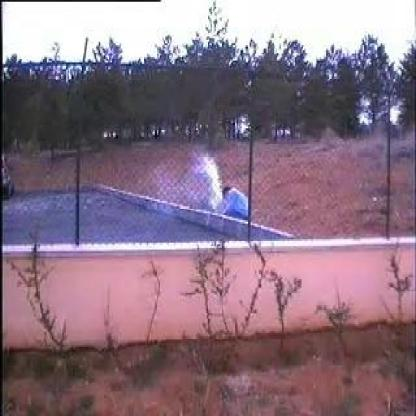-: (148, 148, 224, 209)
